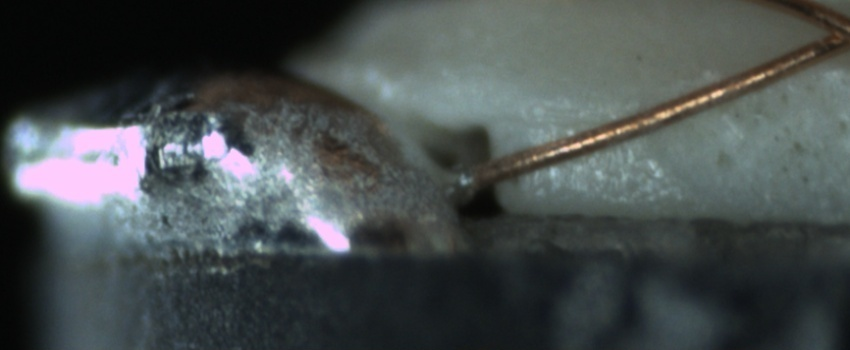CL: (796, 4, 850, 60)
DL: (517, 98, 635, 149)
